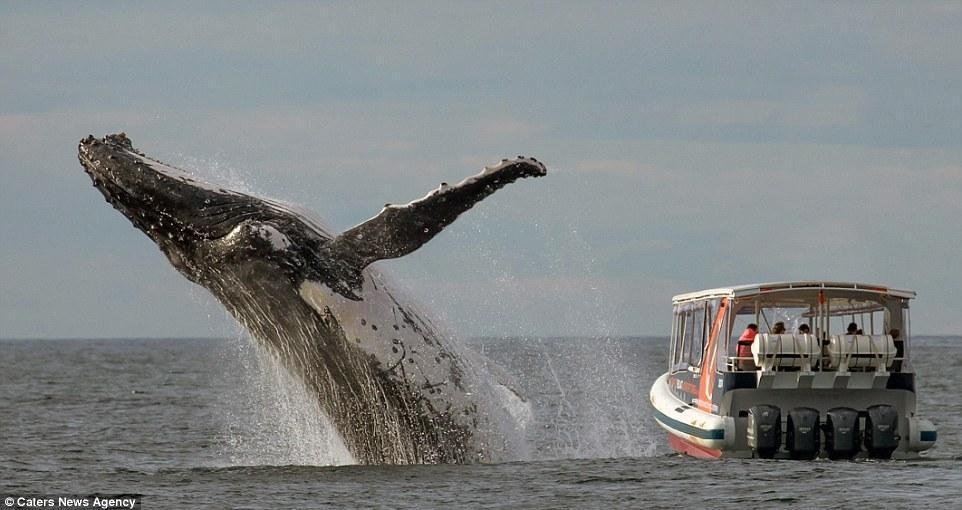fish: (77, 131, 588, 474)
otherboat: (643, 262, 942, 470)
